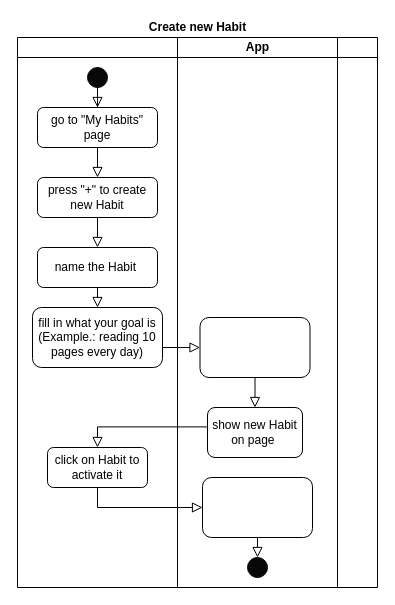
The diagram is 395 pixels wide and 605 high, and some of its shapes have lost their labels. The shapes that lost their labels are listed below. From the top down, each one's box as (x1, y1, x2, y2) in pixels, then its label:
(16, 36, 178, 588): User
(336, 36, 378, 588): Lane 3
(199, 316, 310, 378): add new Habit to user's already existing ones
(202, 476, 312, 538): set Habit activated to get daily notifications
